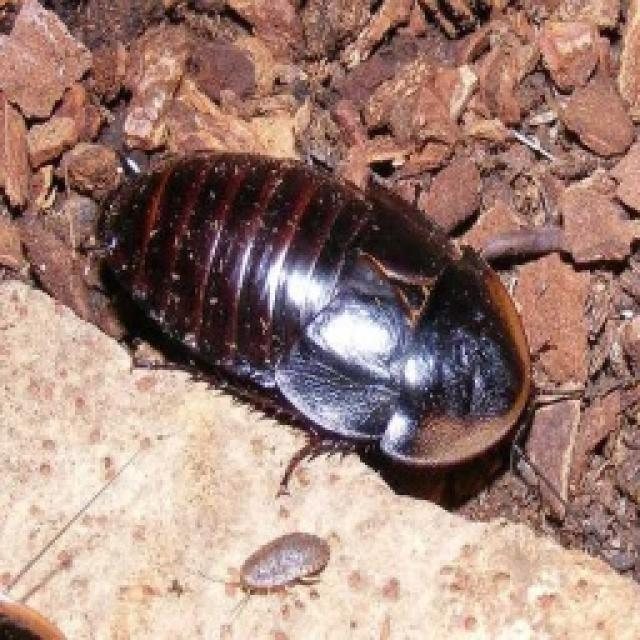cockroach: (88, 145, 549, 503)
